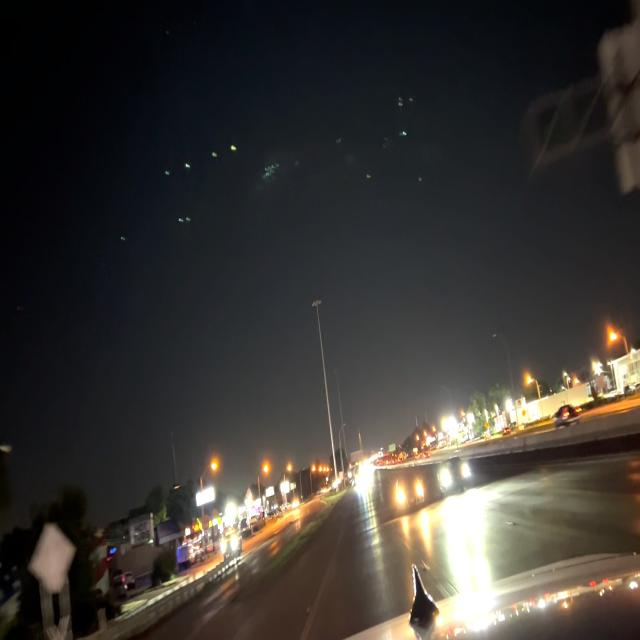back-of-sign: (30, 525, 77, 595)
